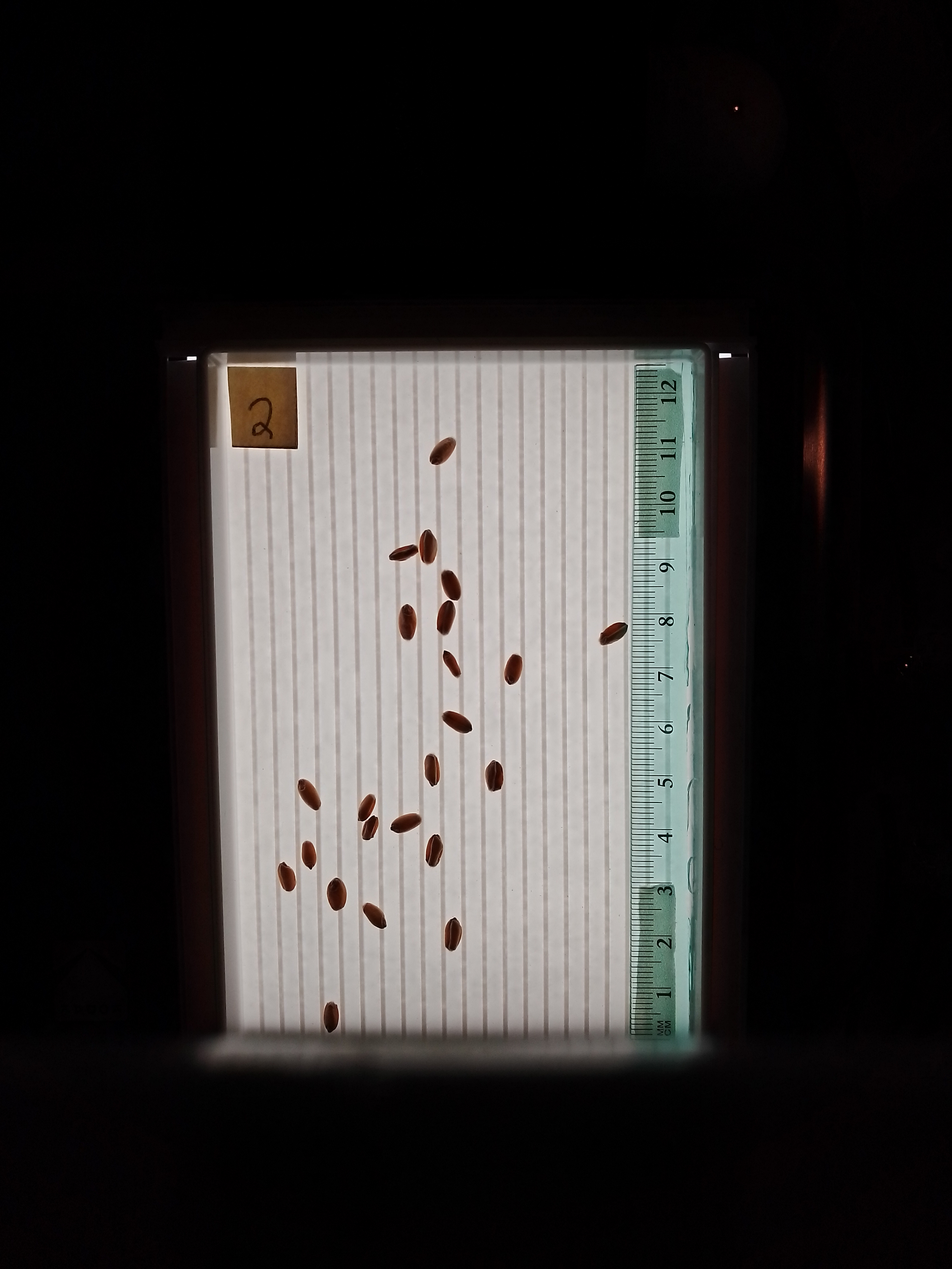seed mask: (430, 437, 455, 465), (298, 779, 320, 810), (418, 530, 438, 564), (327, 878, 347, 911), (599, 622, 627, 645), (443, 711, 472, 733), (398, 605, 416, 639), (363, 903, 386, 929), (485, 761, 504, 792), (391, 813, 420, 833), (425, 835, 443, 867), (442, 570, 461, 600), (445, 918, 462, 951), (438, 602, 455, 634), (505, 655, 523, 685), (424, 754, 440, 787), (323, 1001, 340, 1032), (358, 794, 376, 822), (278, 864, 296, 891), (361, 815, 379, 841), (389, 545, 417, 561), (443, 652, 460, 676), (302, 842, 316, 868)
